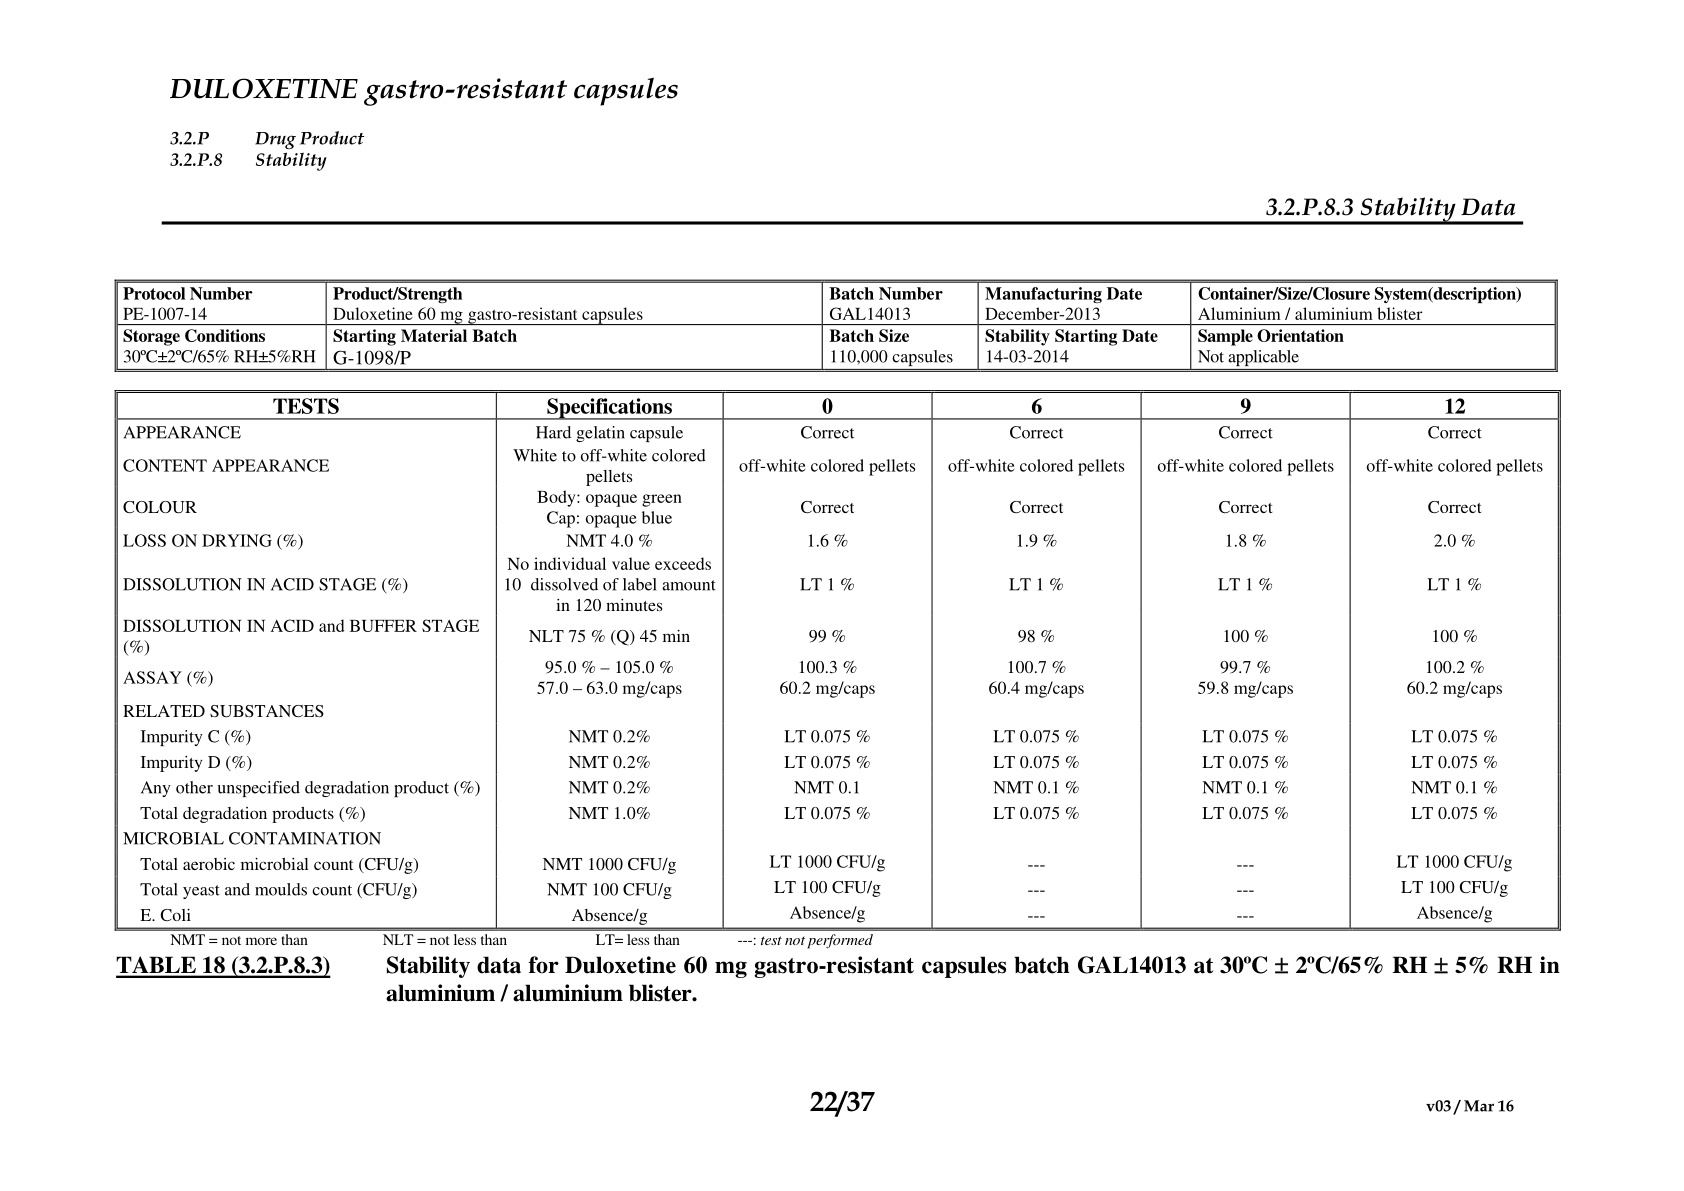full_lined: (113, 278, 1558, 373)
partial_lined: (113, 389, 1562, 931)
